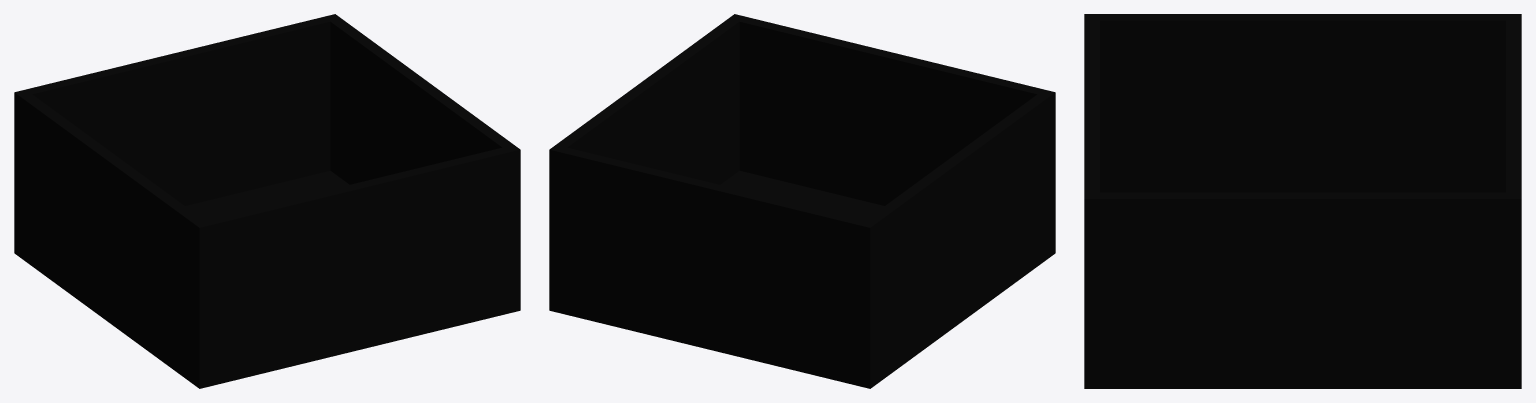
3 renders of one model, left to right at view 1: azimuth 30°, elevation 25°; view 2: azimuth 150°, elevation 25°; view 3: azimuth 270°, elevation 25°, orthographic. The views are drawn at different scales.
Parts seen in each view (by area): view 1: Box_557x557x267; view 2: Box_557x557x267; view 3: Box_557x557x267.
Part boxes in pixels (box(x1,y1,x2,y2)): Box_557x557x267: box(14, 14, 520, 388); Box_557x557x267: box(549, 14, 1055, 388); Box_557x557x267: box(1084, 14, 1521, 388).
Bounding box in the file's own units: 0.557 × 0.267 × 0.557.
1 material, 1 textured.
